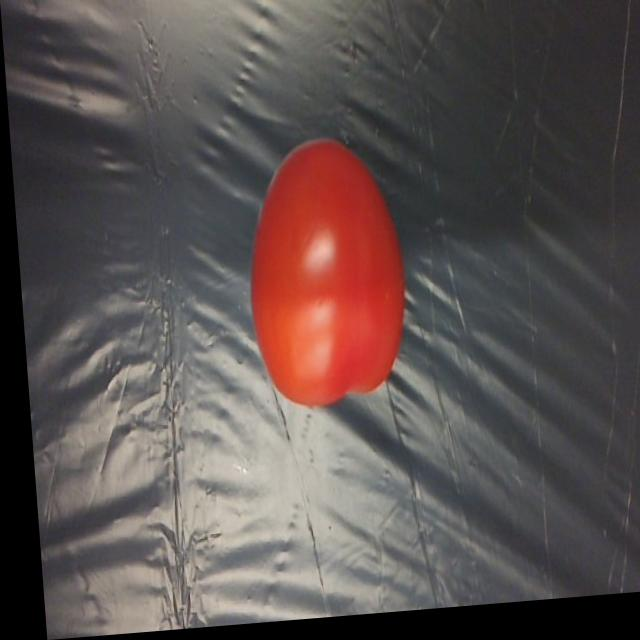kirmizi: (200, 120, 440, 418)
